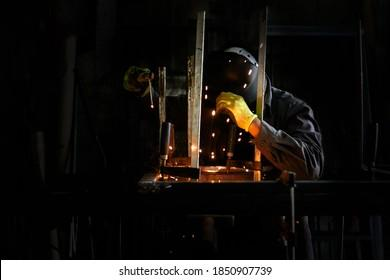gloves: (215, 91, 256, 132)
